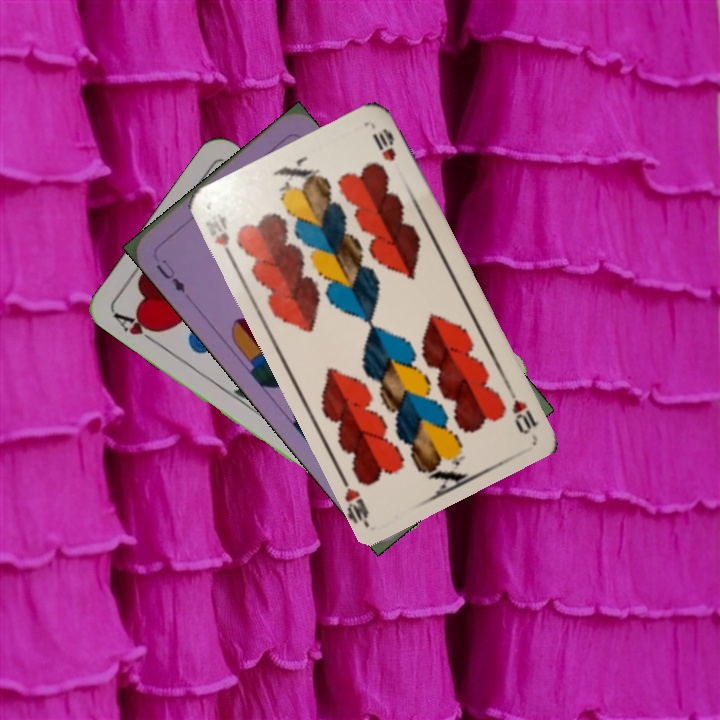EU: (151, 254, 189, 296)
H10: (502, 382, 540, 437), (202, 206, 237, 264)
HA: (109, 308, 163, 349)
